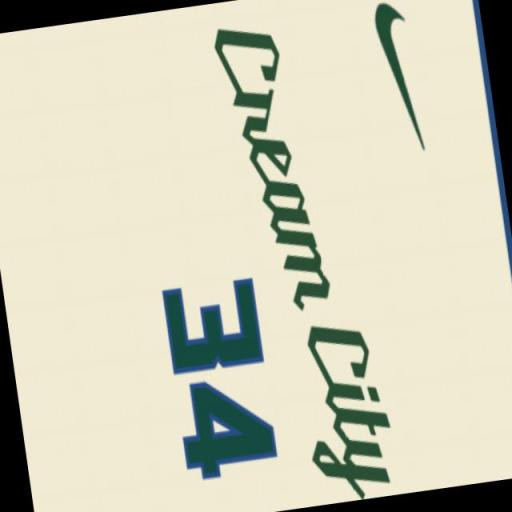Nike: (367, 0, 435, 162)
